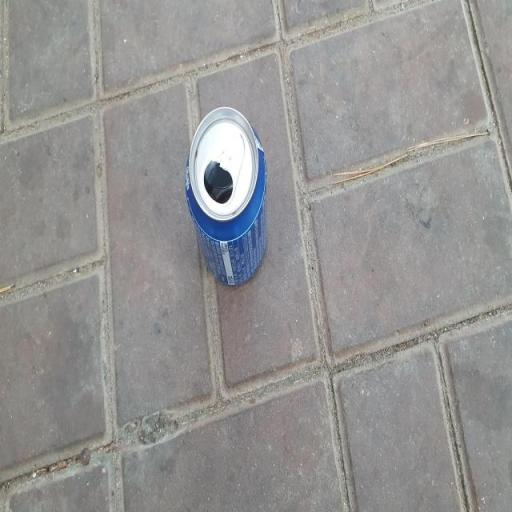metal: (176, 98, 267, 302)
